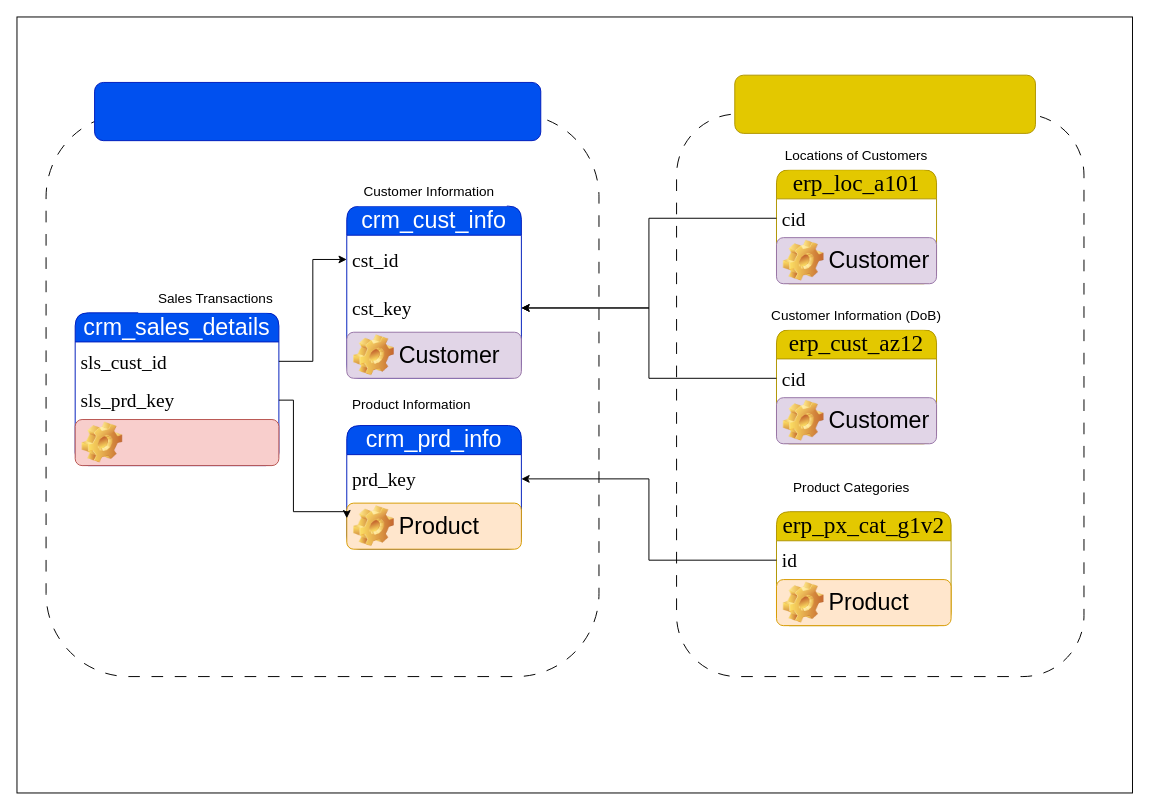
Some shapes in this 1149 by 810 pixel diagram are drawn without their labels. The centre of each missing label's shape, as x and y in pixels:
CRM: the point at 317,111
ERP: the point at 884,103
Sales: the point at 176,442
